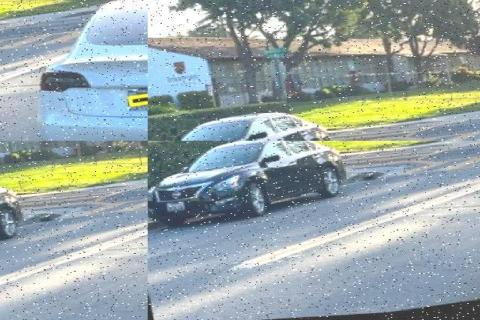LicensePlate: (160, 28, 197, 52), (0, 141, 37, 163), (0, 0, 24, 12), (163, 201, 181, 211)
